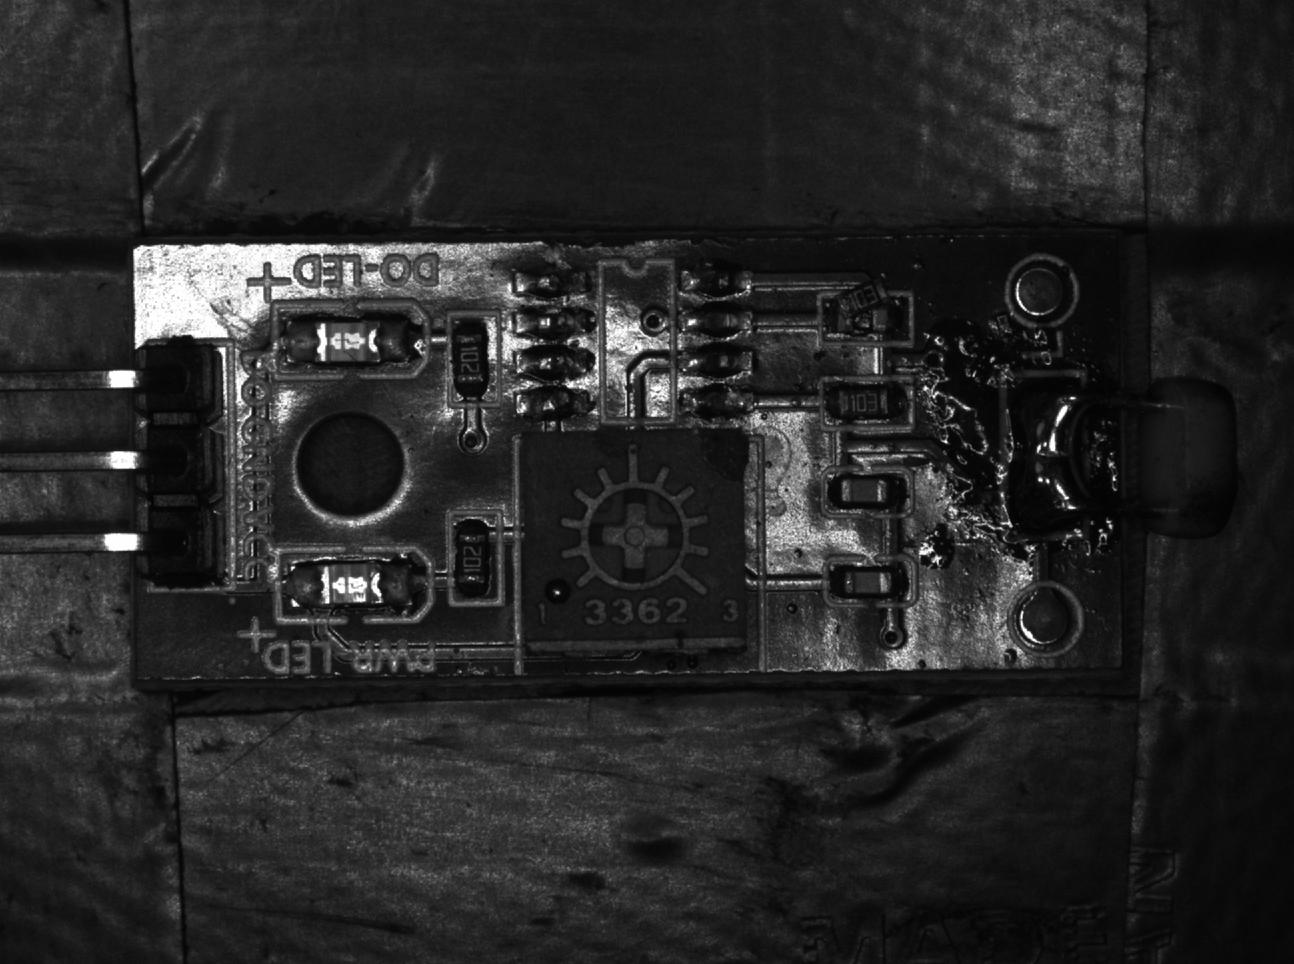bridge: (1010, 377, 1103, 541)
lifted: (819, 282, 916, 353)
ok: (819, 461, 918, 528), (821, 371, 918, 438), (444, 508, 500, 609), (824, 555, 915, 614), (448, 308, 499, 408)
